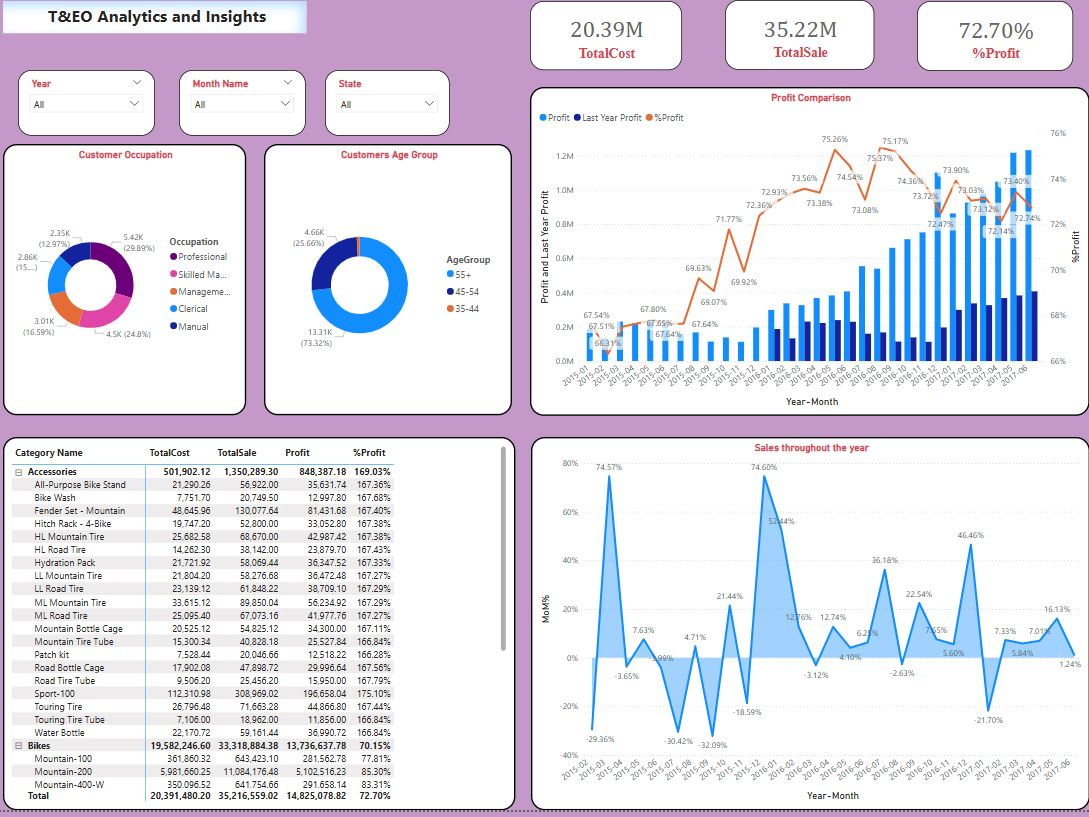

What the dashboard file says about the page in this screenshot:
{"tool":"powerbi","page":{"name":"Dashboard","canvas":[1600,1200],"ordinal":0},"visuals":[{"type":"lineClusteredColumnComboChart","title":"Profit Comparison","fields":{"Y":["AllMeasures.Profit","AllMeasures.Last Year Profit"],"Category":["DateTable.Year-Month"],"Y2":["AllMeasures.%Profit"]},"box":[782,144,816.8,480.4],"z":0},{"type":"pivotTable","fields":{"Rows":["Products.Product_Subcategories.Product_Categories.CategoryName","Products.ModelName"],"Values":["AllMeasures.TotalCost","AllMeasures.TotalSale","AllMeasures.Profit","AllMeasures.%Profit"]},"box":[12.4,655.4,748.5,544.9],"z":1000},{"type":"areaChart","title":"Sales throughout the year","fields":{"Category":["DateTable.Year-Month"],"Y":["AllMeasures.MoM%"]},"box":[783.9,655.5,816.1,544.5],"z":2000},{"type":"donutChart","title":"Customers Age Group","fields":{"Category":["Customers.AgeGroup"],"Y":["CountNonNull(Customers.CustomerKey)"]},"box":[393.5,228.4,362.5,396],"z":3000},{"type":"donutChart","title":"Customer Occupation","fields":{"Category":["Customers.Occupation"],"Y":["CountNonNull(Customers.CustomerKey)"]},"box":[12.4,228.4,355,396],"z":4000},{"type":"card","fields":{"Values":["AllMeasures.TotalCost"]},"box":[782,18.6,222.2,100.5],"z":5000},{"type":"card","fields":{"Values":["AllMeasures.TotalSale"]},"box":[1067.5,17.4,218.5,101.8],"z":6000},{"type":"card","fields":{"Values":["AllMeasures.%Profit"]},"box":[1346.8,18.6,228.4,101.8],"z":7000},{"type":"slicer","title":"Select Year","fields":{"Values":["DateTable.Year"]},"box":[34.8,120.4,199.8,95.6],"z":8000},{"type":"slicer","title":"Select Year","fields":{"Values":["Total Sales.State_Mapping.State"]},"box":[482.9,119.2,182.5,95.6],"z":9000},{"type":"slicer","title":"Select Year","fields":{"Values":["DateTable.Month Name"]},"box":[270.6,119.2,184.9,95.6],"z":10000},{"type":"textbox","box":[12.4,18.6,443.1,47.2],"z":11000}]}

Visuals, with their boxes in screenshot pixels (x1, y1, x2, y2), scaled from the page's 1600x1200 canvas onto the 1089x817 screenshot:
"Profit Comparison" lineClusteredColumnComboChart: bbox=(532, 98, 1088, 425)
pivotTable - Products.Product_Subcategories.Product_Categories.CategoryName x Products.ModelName: bbox=(8, 446, 518, 816)
"Sales throughout the year" areaChart: bbox=(534, 446, 1088, 816)
"Customers Age Group" donutChart: bbox=(268, 156, 515, 425)
"Customer Occupation" donutChart: bbox=(8, 156, 250, 425)
card - AllMeasures.TotalCost: bbox=(532, 13, 683, 81)
card - AllMeasures.TotalSale: bbox=(727, 12, 875, 81)
card - AllMeasures.%Profit: bbox=(917, 13, 1072, 82)
"Select Year" slicer: bbox=(24, 82, 160, 147)
"Select Year" slicer: bbox=(329, 81, 453, 146)
"Select Year" slicer: bbox=(184, 81, 310, 146)
textbox: bbox=(8, 13, 310, 45)
